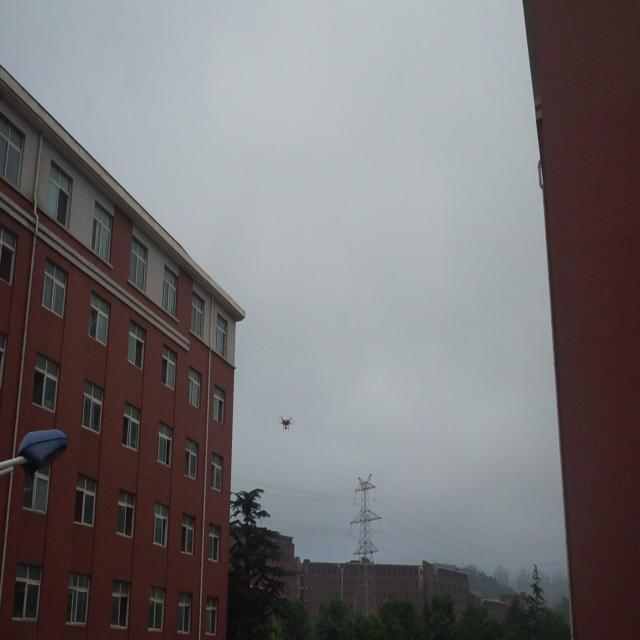UAV: (277, 417, 295, 431)
